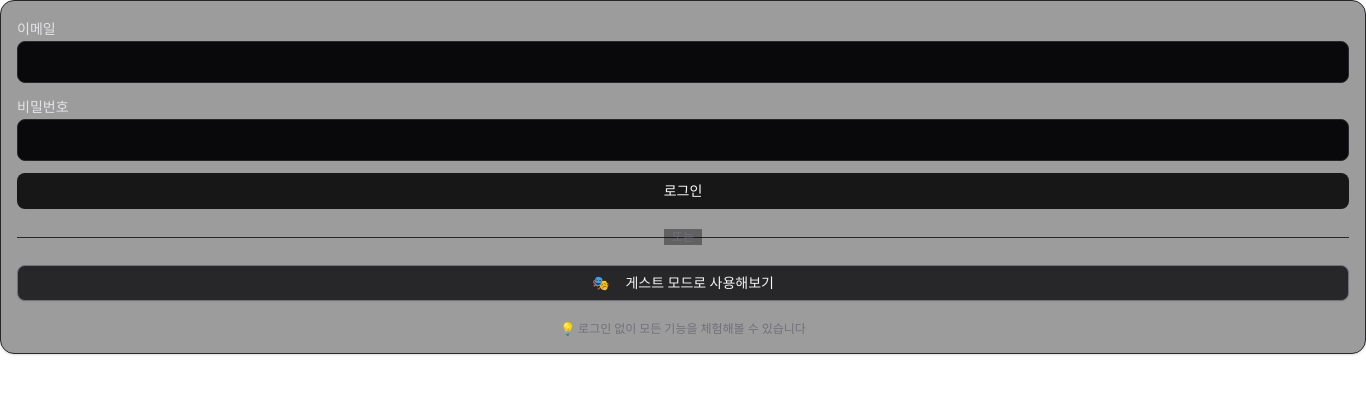
Test case: LoginForm 컴포넌트 › 폼 제출 › 로그인 실패 시 에러 메시지를 표시한다
This screenshot has width=1366, height=404.
Type "wrong@example.com" into the field. click: (683, 62)
box: [17, 41, 1349, 83]
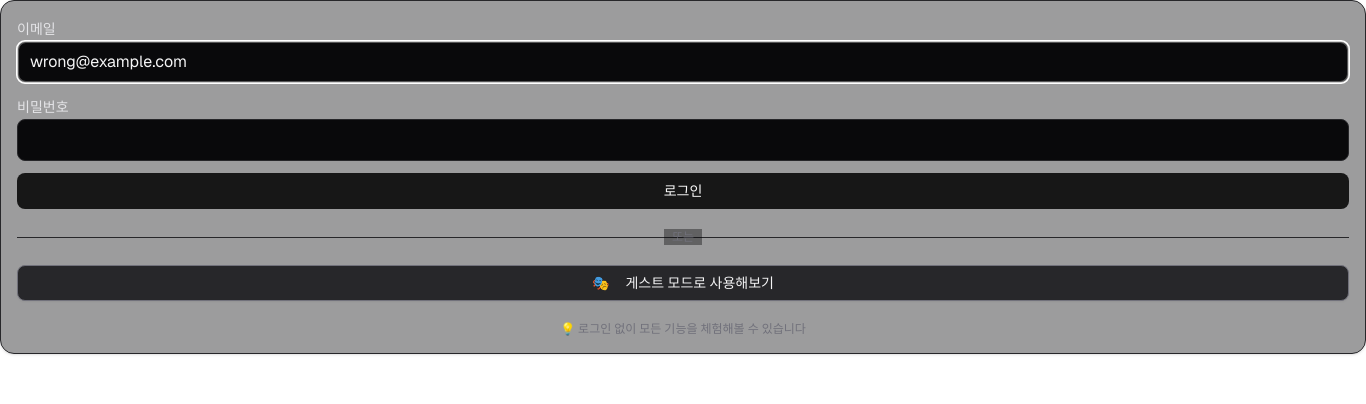
Type "wrongpass" into the password field. click: (683, 140)
box: [17, 119, 1349, 161]
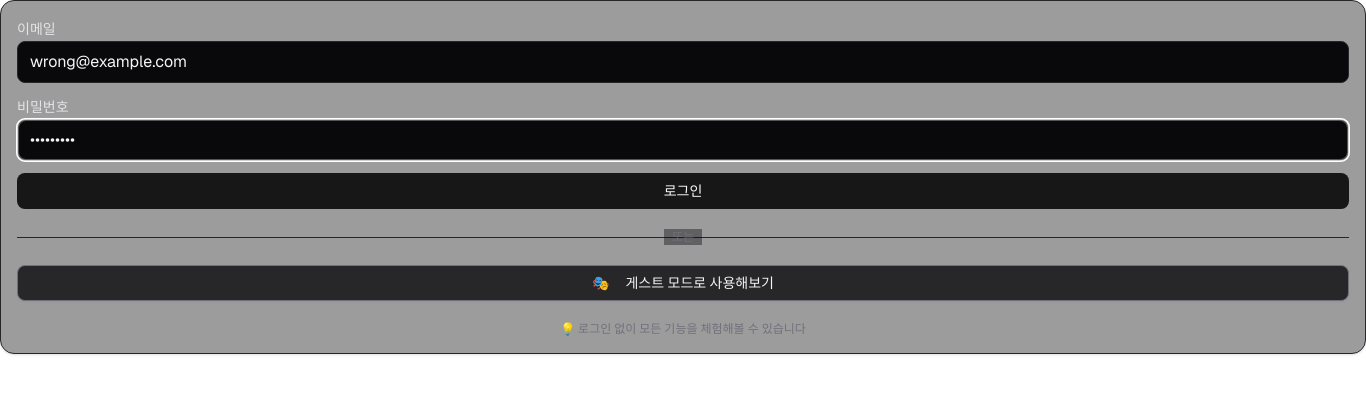
Click the button "로그인". click: click(683, 191)
box: [17, 173, 1349, 209]
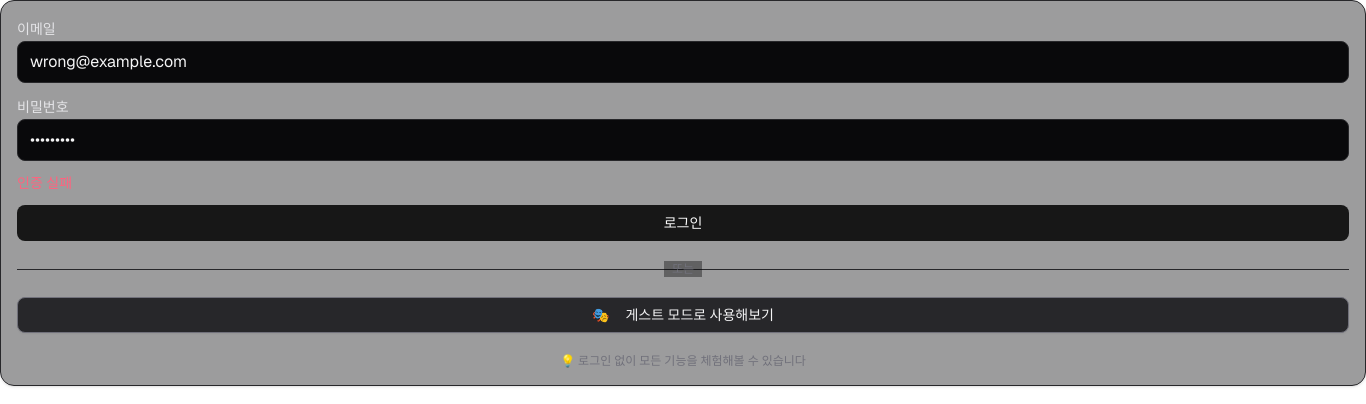
Result: the text "인증 실패" is shown at [17, 174, 72, 192]
